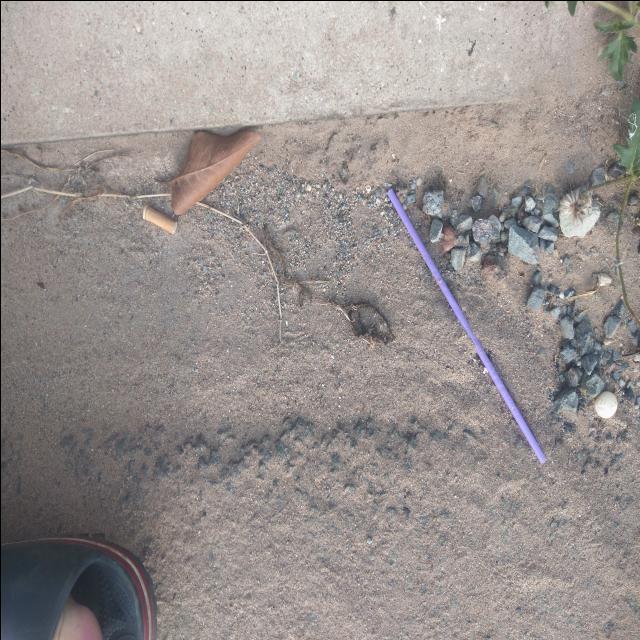Cigarette: (142, 204, 176, 235)
Plastic straw: (386, 188, 546, 463)
